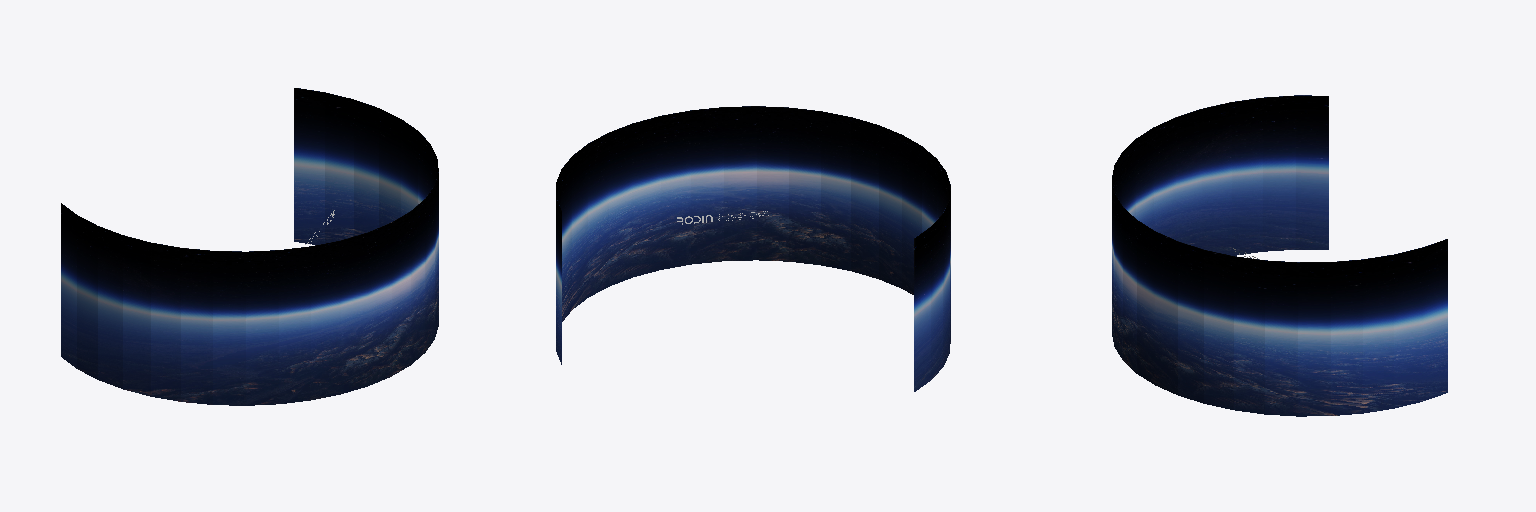
3 views of the same model, side by side, from view 1: azimuth 30°, elevation 25°; view 2: azimuth 150°, elevation 25°; view 3: azimuth 270°, elevation 25° (orthographic).
Parts seen in each view (by area): view 1: Plane026; view 2: Plane026; view 3: Plane026.
Part boxes in pixels (bbox=[...]): Plane026: bbox=[61, 88, 438, 405]; Plane026: bbox=[556, 106, 950, 391]; Plane026: bbox=[1112, 95, 1447, 416].
Size of the model in its own units: 53.73 by 23.17 by 45.78.
Materials: 2 (2 with a texture image).